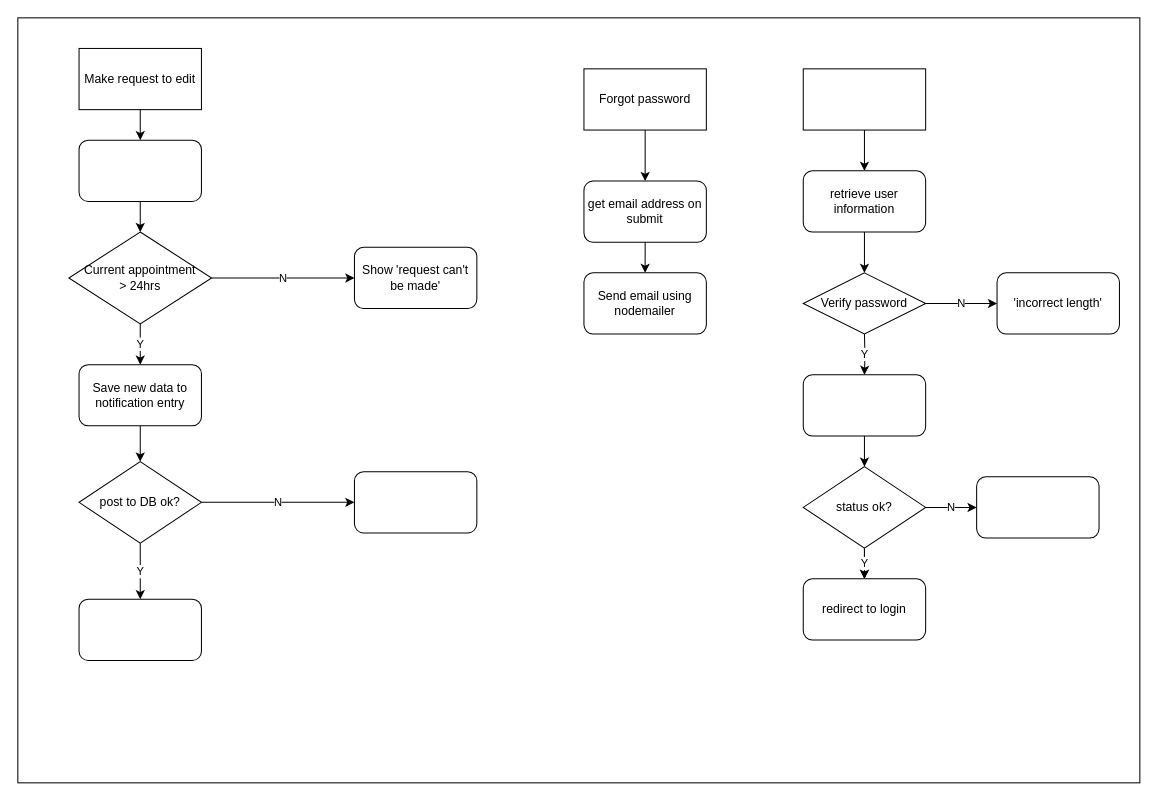
Some shapes in this 1158 by 801 pixel diagram are drawn without their labels. Each missing label, with the centre of its shape:
"'error - try again'" goes at pixel 1037 507.
"Get appointment information" goes at pixel 139 170.
"Link from email" goes at pixel 864 99.
"Show 'can't make request - contact xyz'" goes at pixel 415 502.
"Show 'request made'" goes at pixel 139 629.
"Update user password" goes at pixel 864 405.
